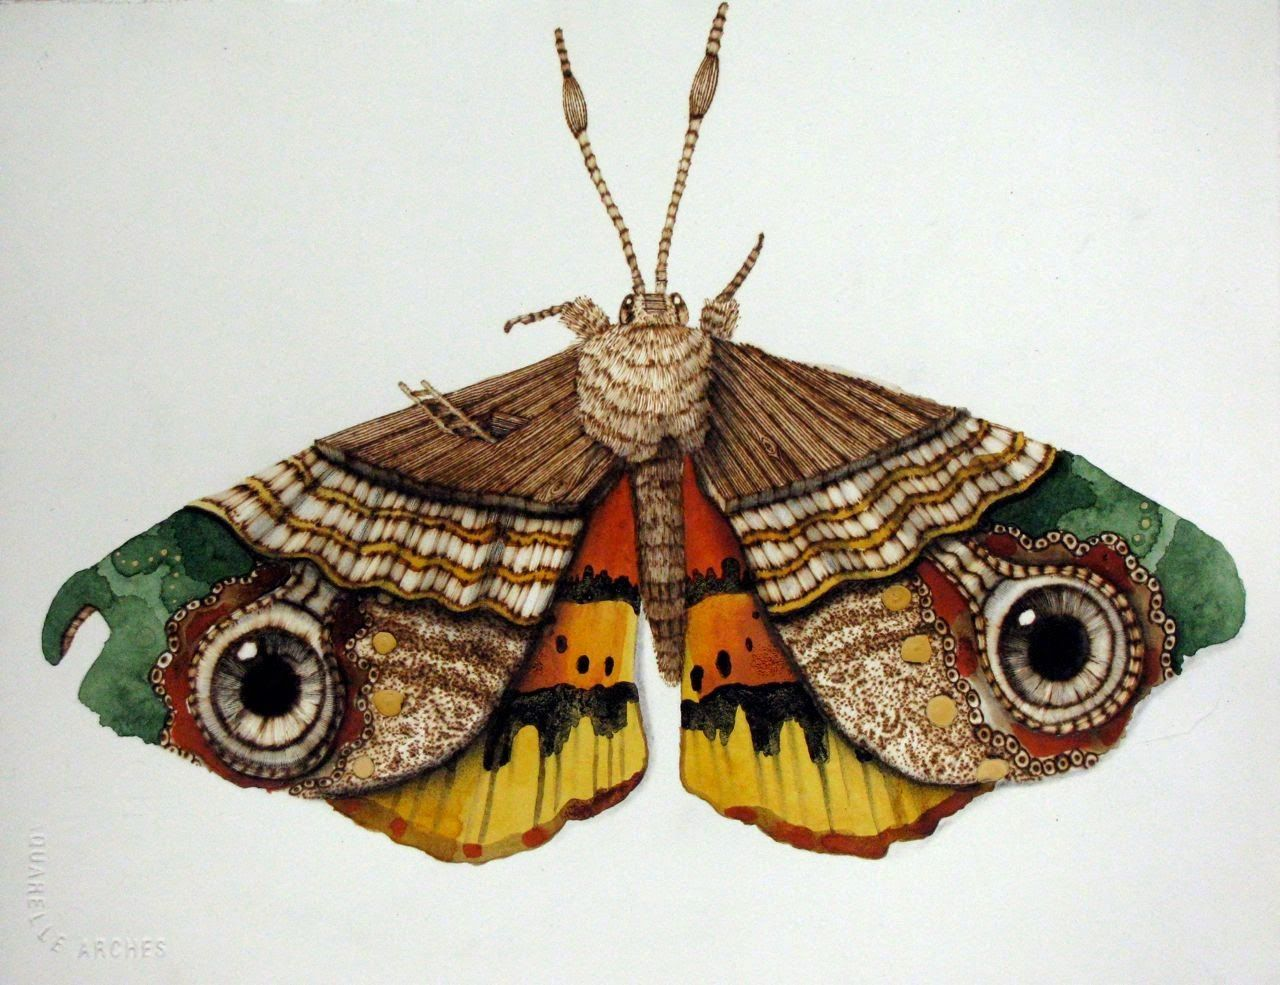feie: (35, 287, 1257, 844)
